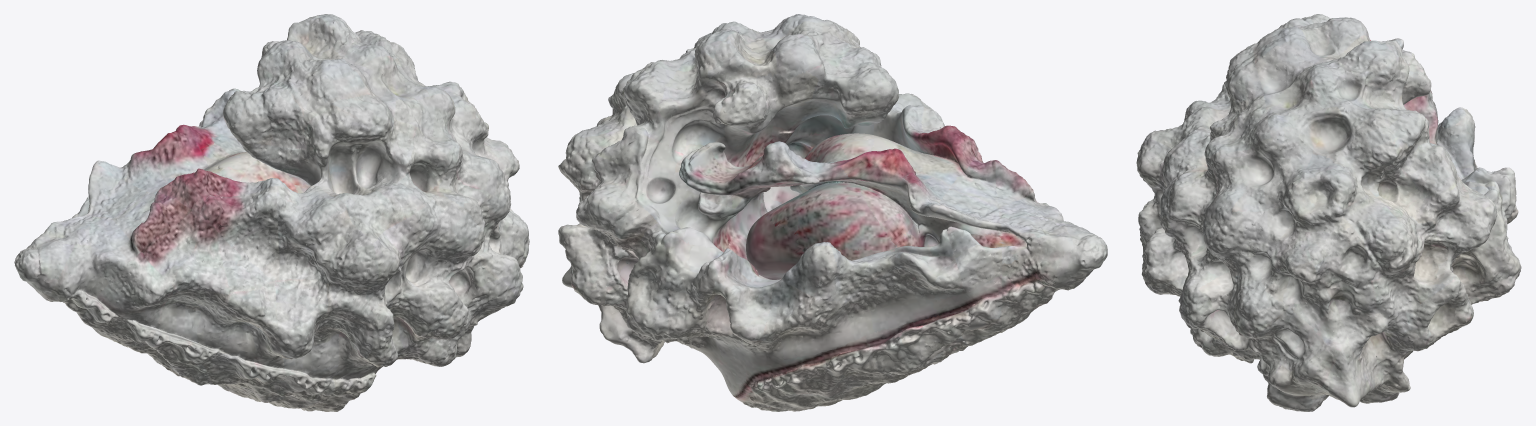
File: muszelka-mobile.glb
3 views of the same model, side by side, from view 1: azimuth 30°, elevation 25°; view 2: azimuth 150°, elevation 25°; view 3: azimuth 270°, elevation 25° (orthographic). The views are drawn at different scales.
Bounding box in the file's own units: 1.9 × 1.32 × 1.27.
Materials: 1 (1 with a texture image).
